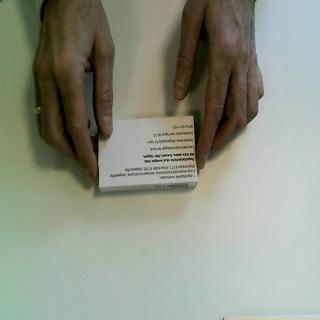oxycontin5mg: (98, 114, 200, 194)
